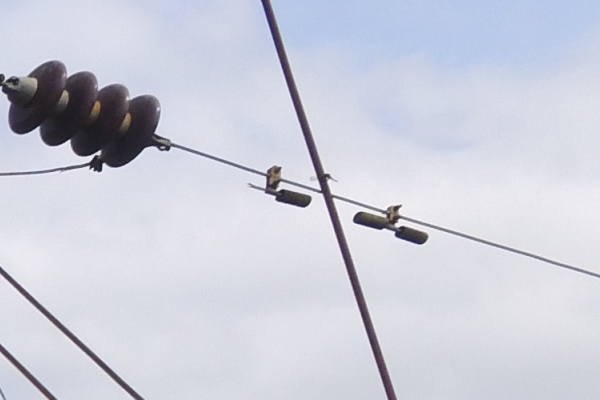damper: (351, 201, 430, 246)
damper_defect: (245, 163, 313, 209)
